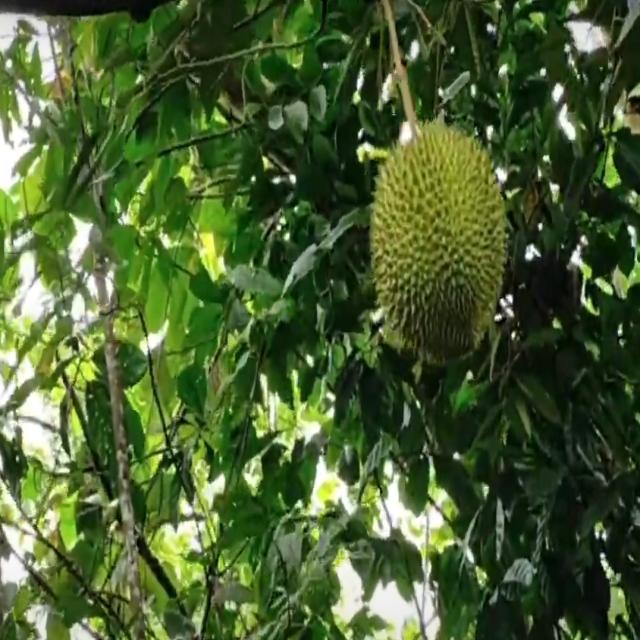immature: (367, 114, 510, 368)
